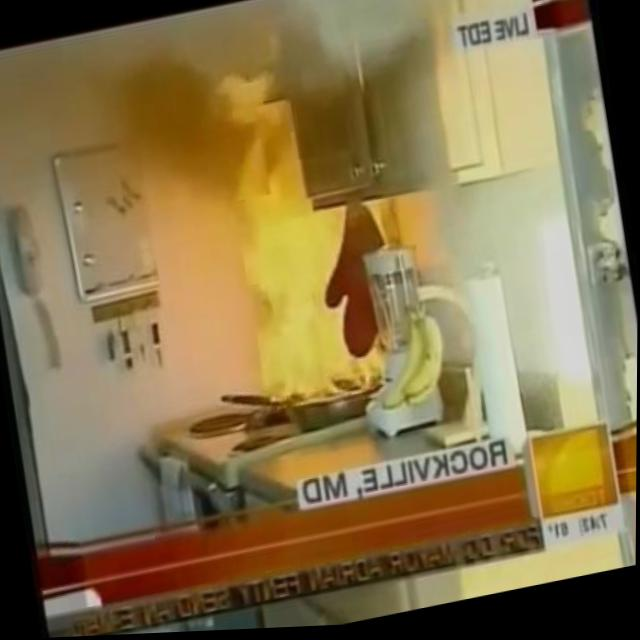fire: (230, 204, 407, 412), (185, 69, 309, 240)
